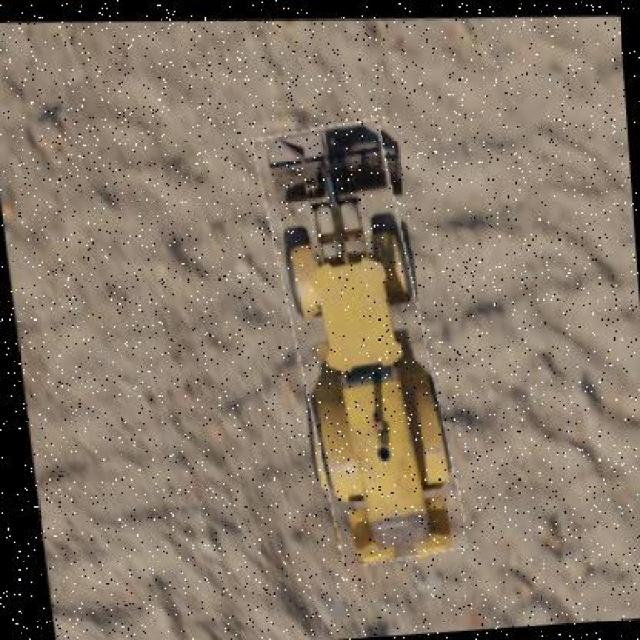buldozerpayloadergrader: (264, 118, 459, 564)
